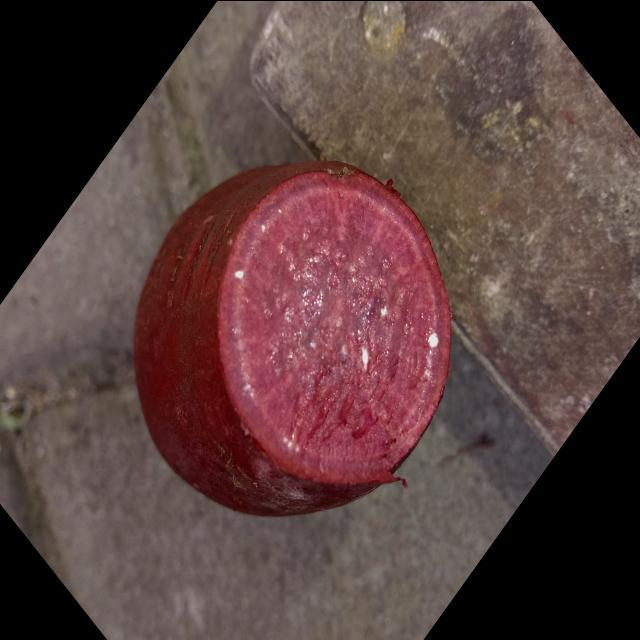Healthy Sweet Potato: (220, 172, 451, 483)
